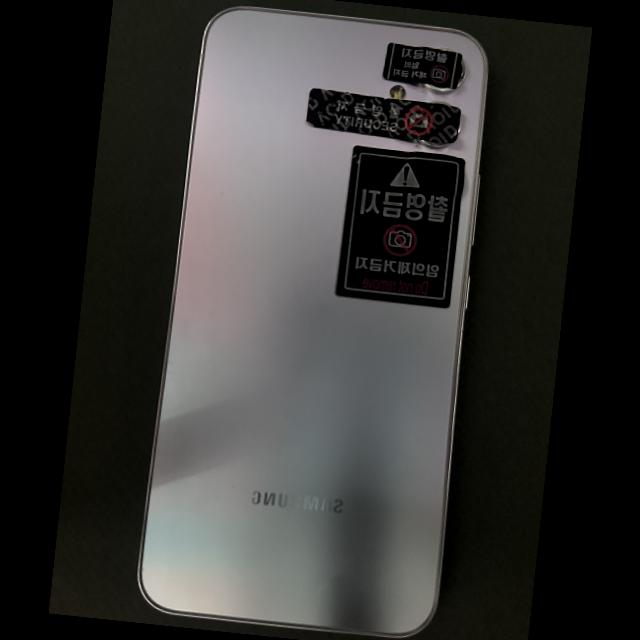lens: (420, 84, 451, 93), (418, 140, 449, 148)
phone: (138, 8, 486, 636)
sticker: (336, 146, 463, 306), (306, 88, 459, 144), (382, 43, 461, 89)
